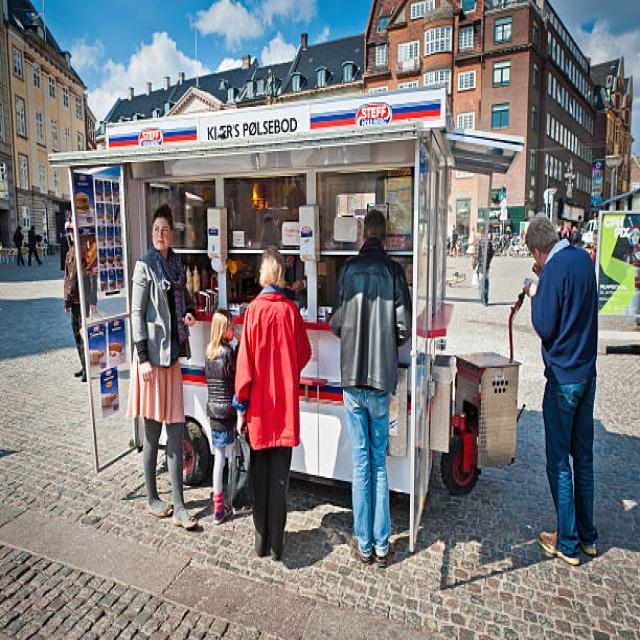Emperan: (40, 76, 528, 559)
